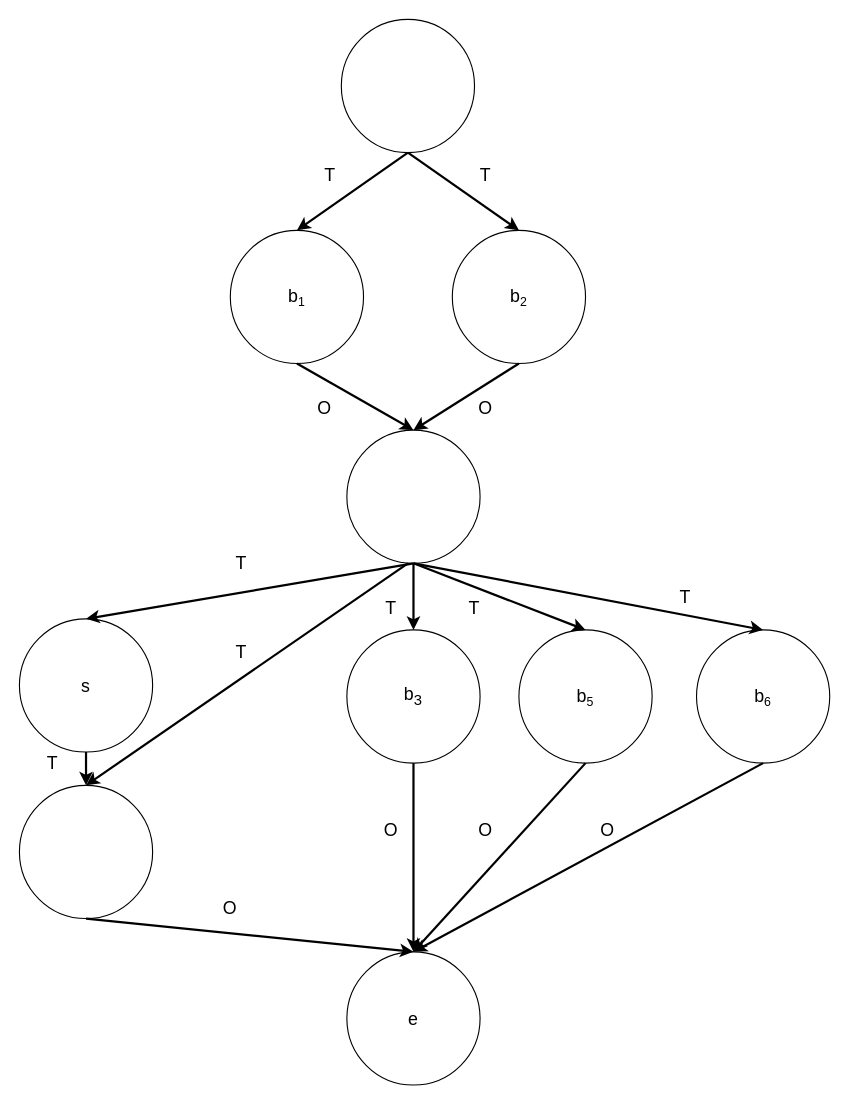
This 849x1104 diagram has some shape labels left out. The box of each missing label's shape, as (x1, y1, x2, y2) in pixels:
b 4: (18, 784, 153, 919)
v 1: (340, 18, 475, 153)
v 2: (346, 429, 480, 563)
